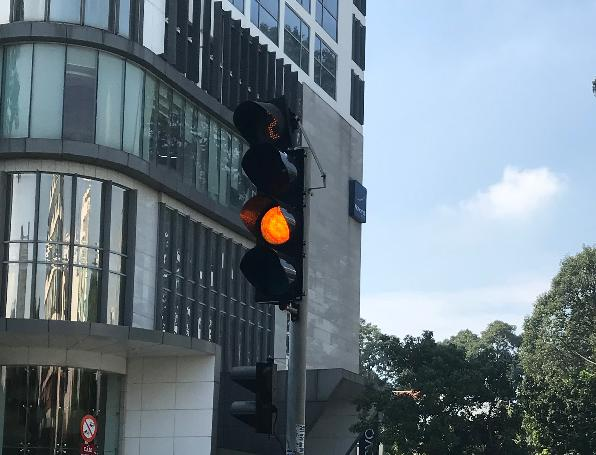yellow_light: (241, 143, 304, 301)
